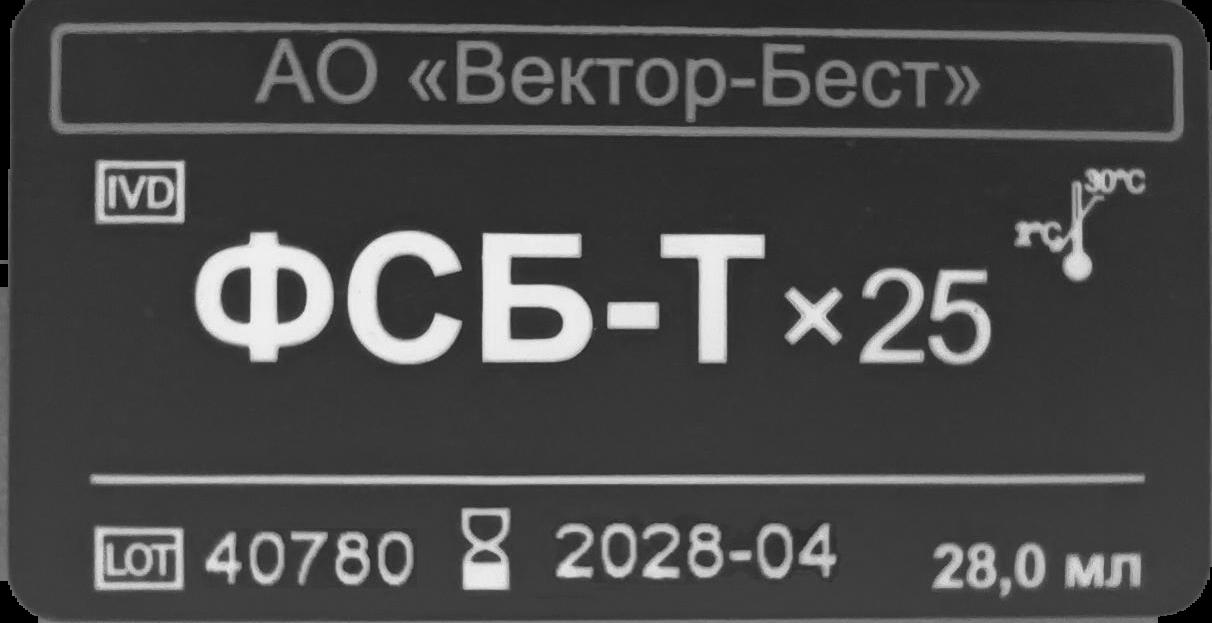something: (1014, 168, 1152, 288), (89, 522, 187, 599), (95, 153, 185, 228), (454, 504, 515, 593)
text: (190, 219, 999, 372), (250, 31, 988, 128), (554, 519, 843, 590), (195, 525, 416, 600), (930, 533, 1150, 603)
